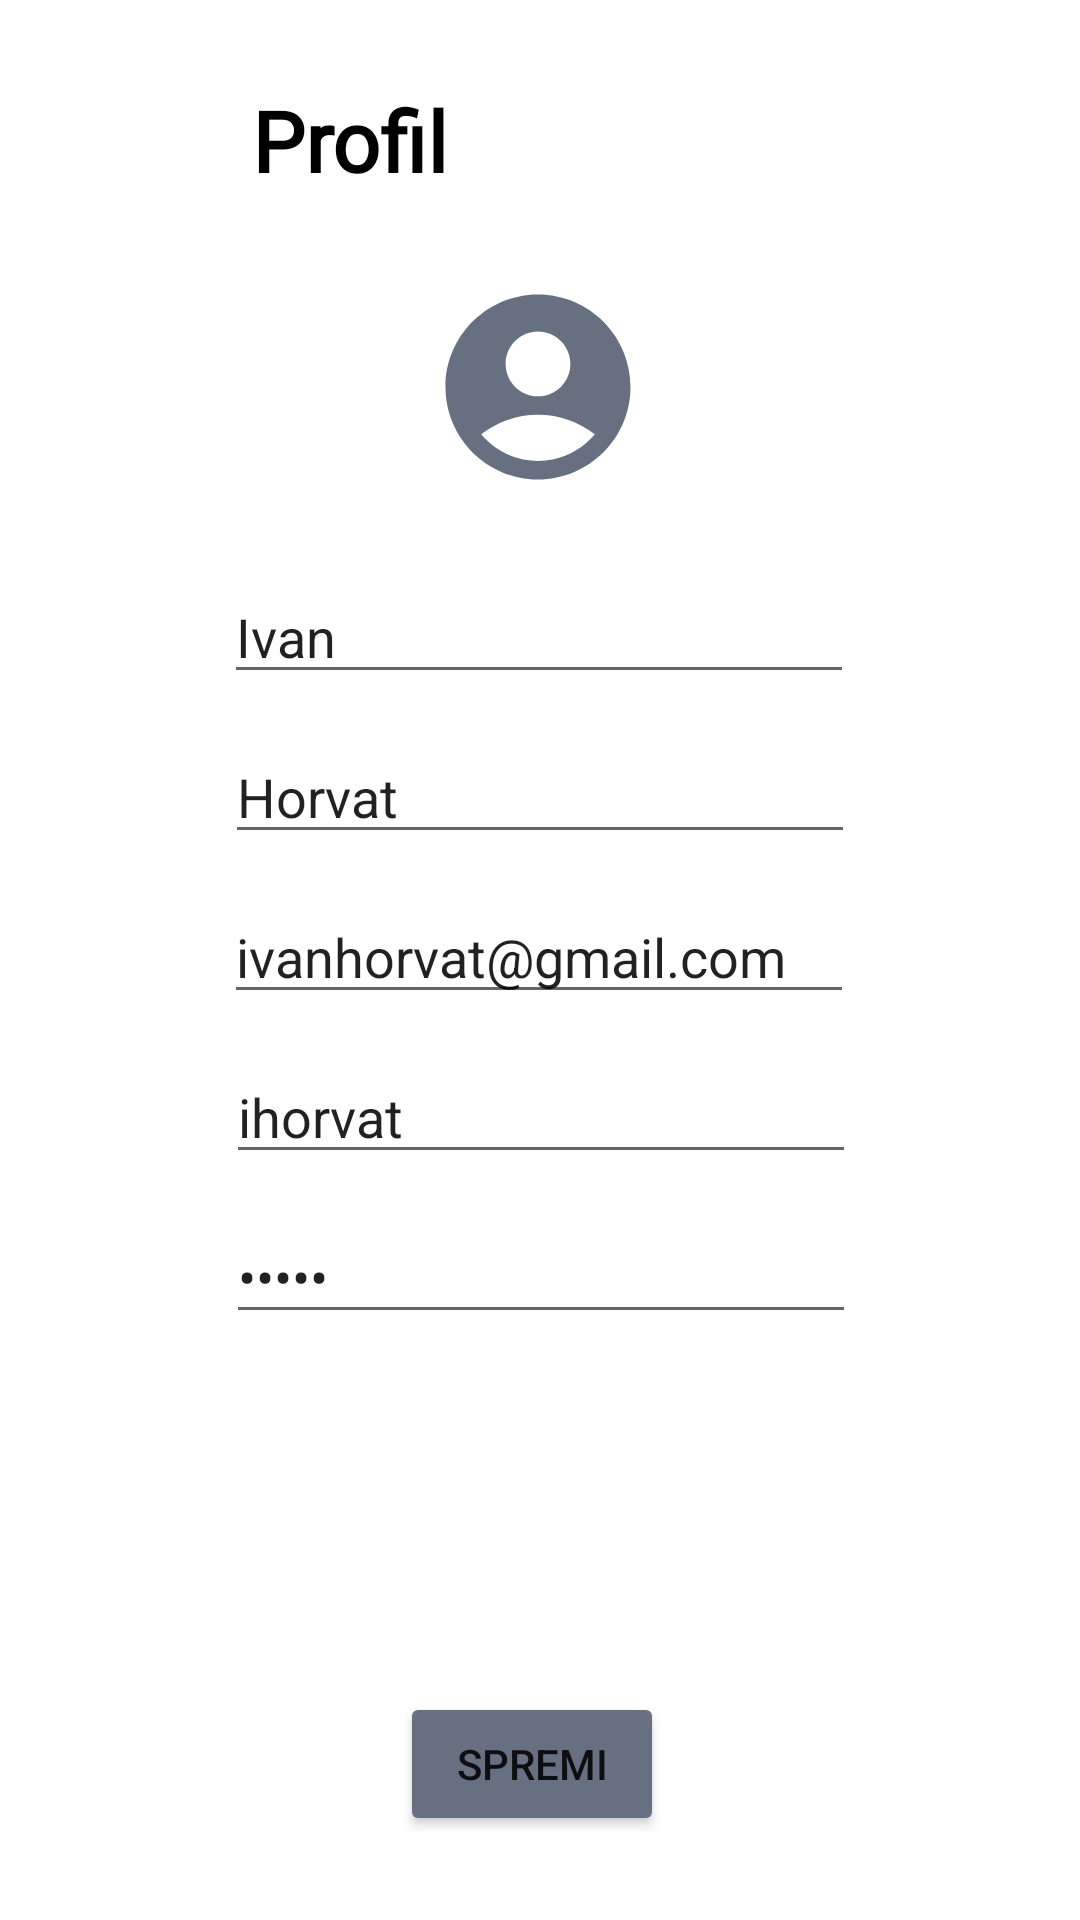

Locate icon controls on the screen. Image size 1080 x 1920, boxes as [left=x1, top=y1, right=x2, bottom=y2].
account circle: [left=445, top=294, right=631, bottom=480]
